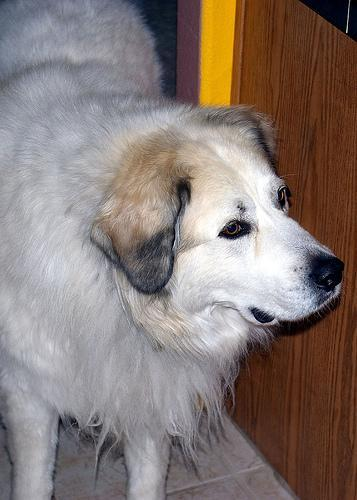Great_Pyrenees: (1, 0, 348, 498)
